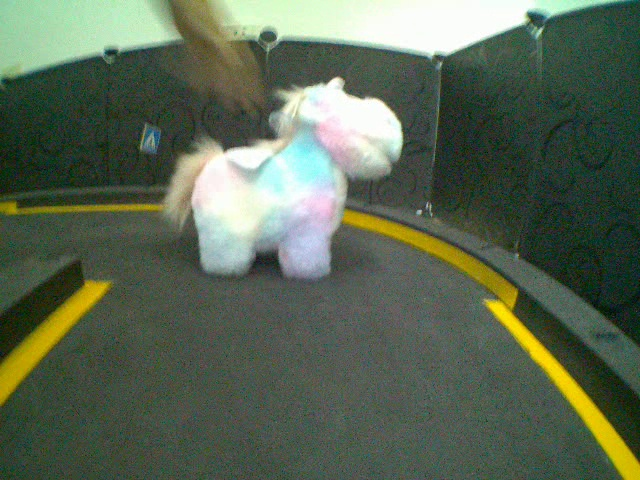unicorn: (155, 76, 406, 282)
